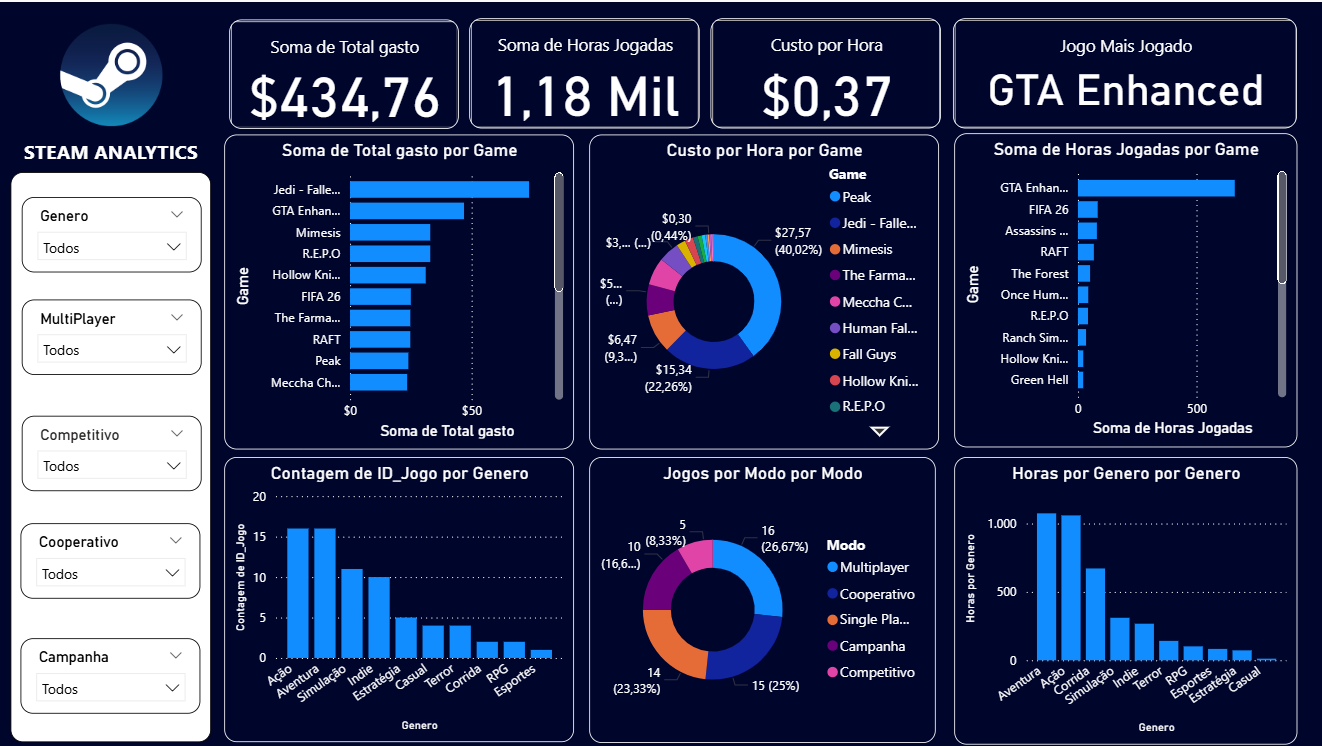

This screenshot's page, from the dashboard's own definition file:
{"tool":"powerbi","page":{"name":"Página 1","canvas":[1280,720],"ordinal":0},"visuals":[{"type":"cardVisual","fields":{"Data":["Sum(Jogos.HorasJogadas)"]},"box":[450.1,11.1,232.8,117],"z":0},{"type":"clusteredBarChart","fields":{"Category":["Jogos.Game"],"Y":["Sum(Jogos.HorasJogadas)"]},"box":[923.5,126.9,330.9,303],"z":1000},{"type":"clusteredBarChart","fields":{"Category":["Jogos.Game"],"Y":["Sum(Jogos.Preco)"]},"box":[218.3,128.1,337.5,304.1],"z":2000},{"type":"donutChart","fields":{"Category":["Jogos.Game"],"Y":["Jogos.Custo por Hora"]},"box":[570.4,128,337.5,304.1],"z":3000},{"type":"clusteredColumnChart","fields":{"Category":["Generos.Genero"],"Y":["CountNonNull(JogoGenero.ID_Jogo)"]},"box":[218.3,438.8,337.5,275.2],"z":4000},{"type":"columnChart","fields":{"Category":["Generos.Genero"],"Y":["Generos.Horas por Genero"]},"box":[923.5,438.8,330.9,277.4],"z":5000},{"type":"cardVisual","title":"Total Gasto","fields":{"Data":["Sum(Jogos.Preco)"]},"box":[218.3,12.3,231.7,115.9],"z":6000},{"type":"cardVisual","fields":{"Data":["Jogos.Custo por Hora"]},"box":[682.9,11.1,232.8,117],"z":7000},{"type":"cardVisual","fields":{"Data":["Generos.Jogo Mais Jogado"]},"box":[916.8,11.1,342,117],"z":8000},{"type":"donutChart","fields":{"Category":["ModosJogo.Modo"],"Y":["ModosJogo.Jogos por Modo"]},"box":[570.4,438.8,334.2,276.3],"z":8001},{"type":"image","box":[44.6,12.3,129.2,117],"z":8002},{"type":"textbox","box":[12.3,127,193.8,36.8],"z":8003},{"type":"shape","box":[12.3,163.8,193.8,550.3],"z":8004},{"type":"slicer","fields":{"Values":["Generos.Genero"]},"box":[23.4,188.3,173.8,72.4],"z":8005},{"type":"slicer","fields":{"Values":["Jogos.MultiPlayer"]},"box":[23.4,287.4,173.8,72.4],"z":8006},{"type":"slicer","fields":{"Values":["Jogos.Competitivo"]},"box":[23.4,399.9,173.8,72.4],"z":8007},{"type":"slicer","fields":{"Values":["Jogos.Cooperativo"]},"box":[22.3,503.5,173.8,72.4],"z":8008},{"type":"slicer","fields":{"Values":["Jogos.Campanha"]},"box":[22.3,613.8,173.8,72.4],"z":8009}]}

Visuals, with their boxes in screenshot pixels (x1, y1, x2, y2), scaled from the page's 1280x720 canvas onto the 1322x746 screenshot:
cardVisual - Sum(Jogos.HorasJogadas): crop(465, 12, 705, 133)
clusteredBarChart - Jogos.Game x Sum(Jogos.HorasJogadas): crop(954, 131, 1296, 445)
clusteredBarChart - Jogos.Game x Sum(Jogos.Preco): crop(225, 133, 574, 448)
donutChart - Jogos.Game x Jogos.Custo por Hora: crop(589, 133, 938, 448)
clusteredColumnChart - Generos.Genero x CountNonNull(JogoGenero.ID_Jogo): crop(225, 455, 574, 740)
columnChart - Generos.Genero x Generos.Horas por Genero: crop(954, 455, 1296, 742)
"Total Gasto" cardVisual: crop(225, 13, 465, 133)
cardVisual - Jogos.Custo por Hora: crop(705, 12, 946, 133)
cardVisual - Generos.Jogo Mais Jogado: crop(947, 12, 1300, 133)
donutChart - ModosJogo.Modo x ModosJogo.Jogos por Modo: crop(589, 455, 934, 741)
image: crop(46, 13, 180, 134)
textbox: crop(13, 132, 213, 170)
shape: crop(13, 170, 213, 740)
slicer - Generos.Genero: crop(24, 195, 204, 270)
slicer - Jogos.MultiPlayer: crop(24, 298, 204, 373)
slicer - Jogos.Competitivo: crop(24, 414, 204, 489)
slicer - Jogos.Cooperativo: crop(23, 522, 203, 597)
slicer - Jogos.Campanha: crop(23, 636, 203, 711)
